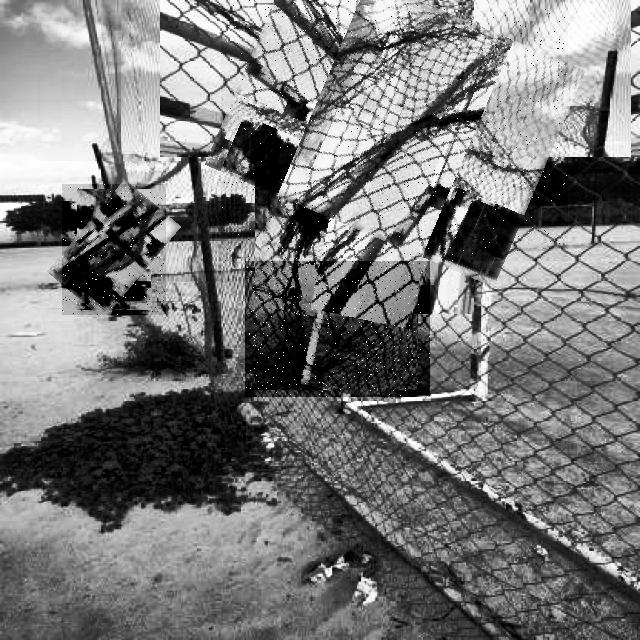anomaly-fence: (221, 0, 568, 261), (245, 167, 430, 397), (62, 184, 166, 315)
